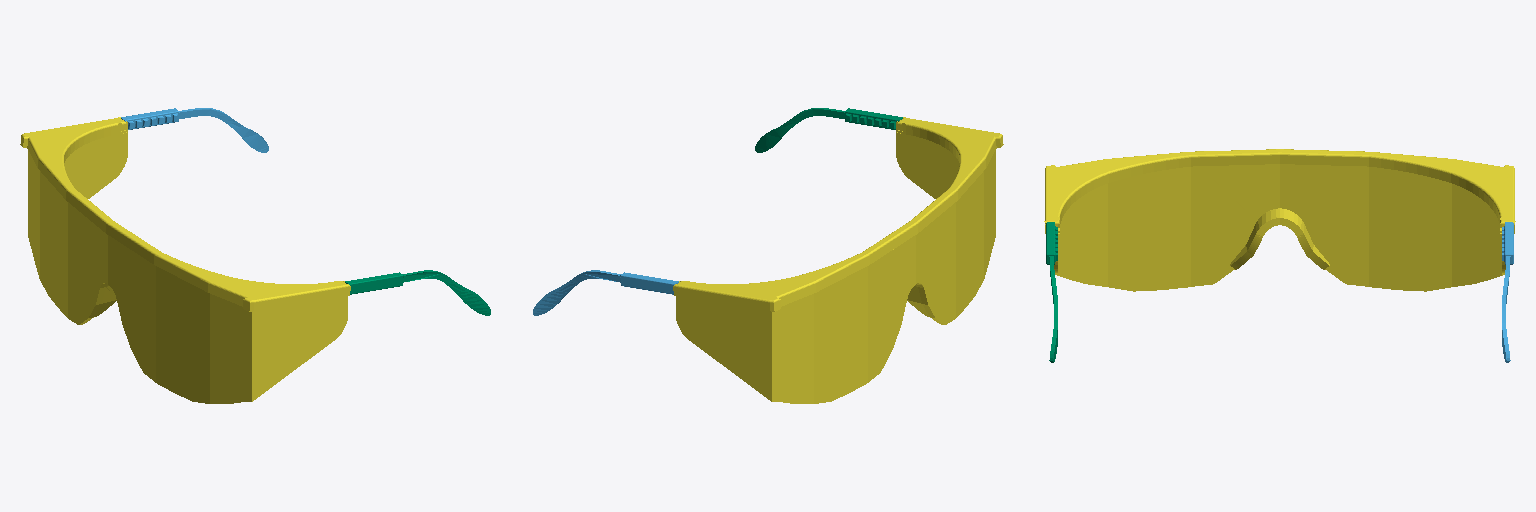
The robot description file, URDF, robot "partnet_63e9feadf53576afe4773d7a183337d9-0":
<?xml version="1.0" ?>
<robot name="partnet_63e9feadf53576afe4773d7a183337d9-0">
	<link name="base"/>
	<link name="link_0">
		<visual name="leg-1">
			<origin xyz="0.6573634560859917 -0.13662791634126936 0.2899181059033653"/>
			<geometry>
				<mesh filename="textured_objs/original-7.obj"/>
			</geometry>
		</visual>
		<visual name="leg-1">
			<origin xyz="0.6573634560859917 -0.13662791634126936 0.2899181059033653"/>
			<geometry>
				<mesh filename="textured_objs/original-6.obj"/>
			</geometry>
		</visual>
		<collision>
			<origin xyz="0.6573634560859917 -0.13662791634126936 0.2899181059033653"/>
			<geometry>
				<mesh filename="textured_objs/original-7.obj"/>
			</geometry>
		</collision>
		<collision>
			<origin xyz="0.6573634560859917 -0.13662791634126936 0.2899181059033653"/>
			<geometry>
				<mesh filename="textured_objs/original-6.obj"/>
			</geometry>
		</collision>
	</link>
	<joint name="joint_0" type="revolute">
		<origin xyz="-0.6573634560859917 0.13662791634126936 -0.2899181059033653"/>
		<axis xyz="0 -0.997314601731654 0.07323650164250366"/>
		<child link="link_0"/>
		<parent link="link_2"/>
		<limit lower="0.0" upper="1.501681288415921"/>
	</joint>
	<link name="link_1">
		<visual name="leg-2">
			<origin xyz="-0.6472705418092026 -0.137256706491808 0.2813554140148533"/>
			<geometry>
				<mesh filename="textured_objs/original-12.obj"/>
			</geometry>
		</visual>
		<visual name="leg-2">
			<origin xyz="-0.6472705418092026 -0.137256706491808 0.2813554140148533"/>
			<geometry>
				<mesh filename="textured_objs/original-11.obj"/>
			</geometry>
		</visual>
		<collision>
			<origin xyz="-0.6472705418092026 -0.137256706491808 0.2813554140148533"/>
			<geometry>
				<mesh filename="textured_objs/original-12.obj"/>
			</geometry>
		</collision>
		<collision>
			<origin xyz="-0.6472705418092026 -0.137256706491808 0.2813554140148533"/>
			<geometry>
				<mesh filename="textured_objs/original-11.obj"/>
			</geometry>
		</collision>
	</link>
	<joint name="joint_1" type="revolute">
		<origin xyz="0.6472705418092026 0.137256706491808 -0.2813554140148533"/>
		<axis xyz="0 1 0"/>
		<child link="link_1"/>
		<parent link="link_2"/>
		<limit lower="0.0" upper="1.5205308443374599"/>
	</joint>
	<link name="link_2">
		<visual name="base_body-3">
			<origin xyz="0 0 0"/>
			<geometry>
				<mesh filename="textured_objs/original-3.obj"/>
			</geometry>
		</visual>
		<visual name="base_body-3">
			<origin xyz="0 0 0"/>
			<geometry>
				<mesh filename="textured_objs/original-2.obj"/>
			</geometry>
		</visual>
		<visual name="base_body-3">
			<origin xyz="0 0 0"/>
			<geometry>
				<mesh filename="textured_objs/original-16.obj"/>
			</geometry>
		</visual>
		<visual name="base_body-3">
			<origin xyz="0 0 0"/>
			<geometry>
				<mesh filename="textured_objs/original-8.obj"/>
			</geometry>
		</visual>
		<visual name="base_body-3">
			<origin xyz="0 0 0"/>
			<geometry>
				<mesh filename="textured_objs/original-13.obj"/>
			</geometry>
		</visual>
		<visual name="base_body-3">
			<origin xyz="0 0 0"/>
			<geometry>
				<mesh filename="textured_objs/original-15.obj"/>
			</geometry>
		</visual>
		<visual name="base_body-3">
			<origin xyz="0 0 0"/>
			<geometry>
				<mesh filename="textured_objs/original-18.obj"/>
			</geometry>
		</visual>
		<visual name="base_body-3">
			<origin xyz="0 0 0"/>
			<geometry>
				<mesh filename="textured_objs/original-17.obj"/>
			</geometry>
		</visual>
		<visual name="base_body-3">
			<origin xyz="0 0 0"/>
			<geometry>
				<mesh filename="textured_objs/original-14.obj"/>
			</geometry>
		</visual>
		<visual name="base_body-3">
			<origin xyz="0 0 0"/>
			<geometry>
				<mesh filename="textured_objs/original-19.obj"/>
			</geometry>
		</visual>
		<collision>
			<origin xyz="0 0 0"/>
			<geometry>
				<mesh filename="textured_objs/original-3.obj"/>
			</geometry>
		</collision>
		<collision>
			<origin xyz="0 0 0"/>
			<geometry>
				<mesh filename="textured_objs/original-2.obj"/>
			</geometry>
		</collision>
		<collision>
			<origin xyz="0 0 0"/>
			<geometry>
				<mesh filename="textured_objs/original-16.obj"/>
			</geometry>
		</collision>
		<collision>
			<origin xyz="0 0 0"/>
			<geometry>
				<mesh filename="textured_objs/original-8.obj"/>
			</geometry>
		</collision>
		<collision>
			<origin xyz="0 0 0"/>
			<geometry>
				<mesh filename="textured_objs/original-13.obj"/>
			</geometry>
		</collision>
		<collision>
			<origin xyz="0 0 0"/>
			<geometry>
				<mesh filename="textured_objs/original-15.obj"/>
			</geometry>
		</collision>
		<collision>
			<origin xyz="0 0 0"/>
			<geometry>
				<mesh filename="textured_objs/original-18.obj"/>
			</geometry>
		</collision>
		<collision>
			<origin xyz="0 0 0"/>
			<geometry>
				<mesh filename="textured_objs/original-17.obj"/>
			</geometry>
		</collision>
		<collision>
			<origin xyz="0 0 0"/>
			<geometry>
				<mesh filename="textured_objs/original-14.obj"/>
			</geometry>
		</collision>
		<collision>
			<origin xyz="0 0 0"/>
			<geometry>
				<mesh filename="textured_objs/original-19.obj"/>
			</geometry>
		</collision>
	</link>
	<joint name="joint_2" type="fixed">
		<origin rpy="1.570796326794897 0 -1.570796326794897" xyz="0 0 0"/>
		<child link="link_2"/>
		<parent link="base"/>
	</joint>
</robot>

--- What the picture shows (computed from the rendered views, not written in the file) ---
Views: 3 orthographic renders of the robot side by side, from view 1: azimuth 30°, elevation 25°; view 2: azimuth 150°, elevation 25°; view 3: azimuth 270°, elevation 25°.
Model partnet_63e9feadf53576afe4773d7a183337d9-0 with 4 links and 3 joints (2 revolute, 1 fixed), rooted at base, posed all joints at 0.
Visible links, largest first — view 1: link_2, link_1, link_0; view 2: link_2, link_0, link_1; view 3: link_2, link_0, link_1.
Link boxes in pixels (x1,y1,x2,y2): link_2: (20, 117, 350, 403); link_1: (345, 270, 490, 315); link_0: (121, 108, 268, 152); link_2: (673, 117, 1003, 403); link_0: (533, 270, 678, 315); link_1: (755, 108, 902, 152); link_2: (1044, 149, 1515, 291); link_0: (1502, 222, 1513, 362); link_1: (1046, 222, 1057, 362).
Bounding box of the posed robot: 0.9215 × 1.34 × 0.42 m (x, y, z).
14 mesh visuals loaded from 14 distinct referenced files (14 OBJ).